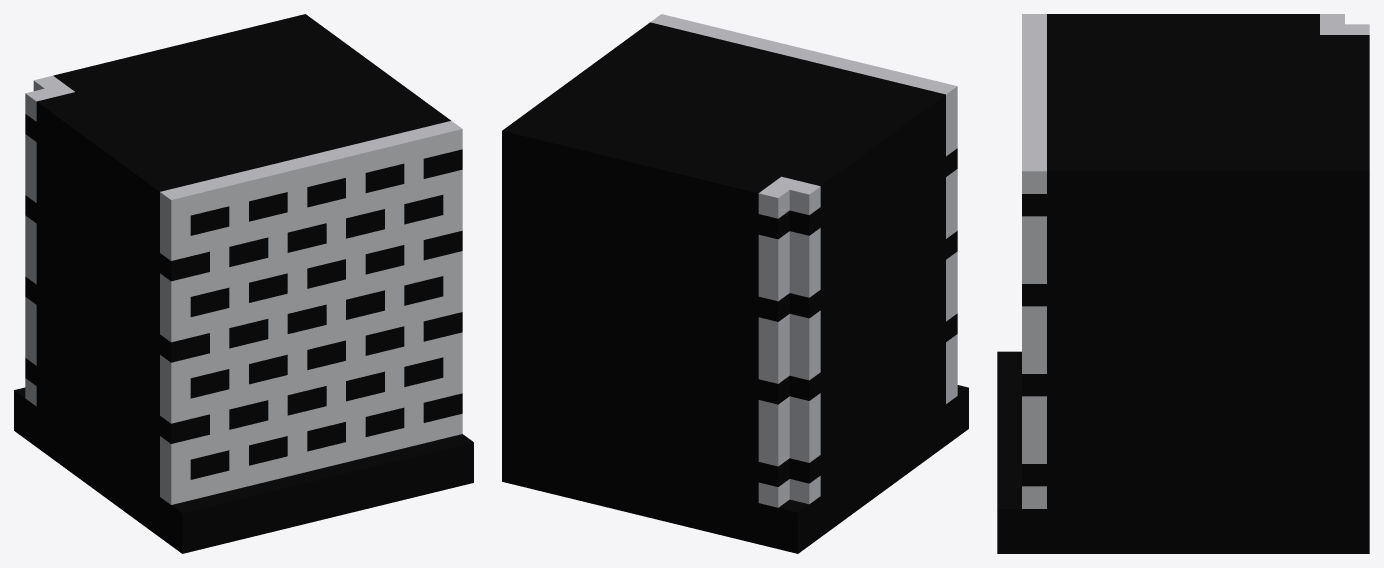
File: dungeon_d_b_outer_wall_segment_c.obj
3 views of the same model, side by side, from view 1: azimuth 30°, elevation 25°; view 2: azimuth 150°, elevation 25°; view 3: azimuth 270°, elevation 25° (orthographic). The views are drawn at different scales.
Bounding box in the file's own units: 1.5 × 1.7 × 1.5.
Materials: 1 (1 with a texture image).
